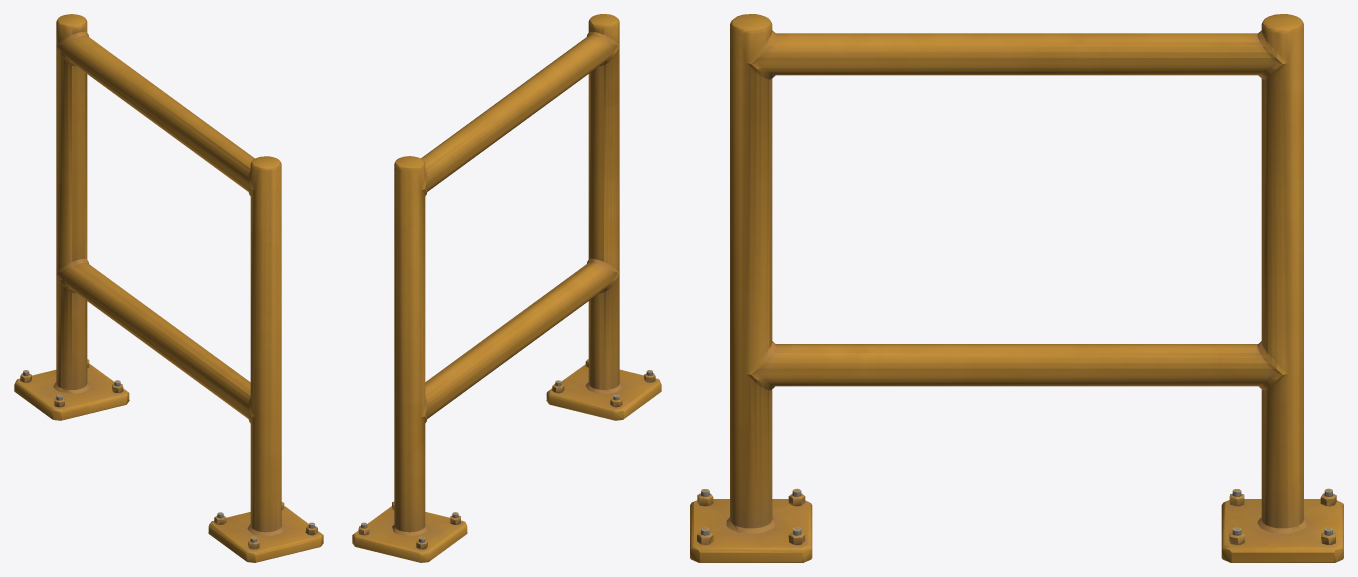
Rendered from metalfencing_a2.glb.
3 views of the same model, side by side, from view 1: azimuth 30°, elevation 25°; view 2: azimuth 150°, elevation 25°; view 3: azimuth 270°, elevation 25° (orthographic). The views are drawn at different scales.
Parts seen in each view (by area): view 1: root; view 2: root; view 3: root.
Boxes of the visible parts, x1,y1,x2,y2 form: root: (14, 14, 323, 562); root: (352, 14, 661, 562); root: (690, 14, 1343, 562).
Bounding box in the file's own units: 0.23 × 1.07 × 1.23.
Materials: 1 (1 with a texture image).
